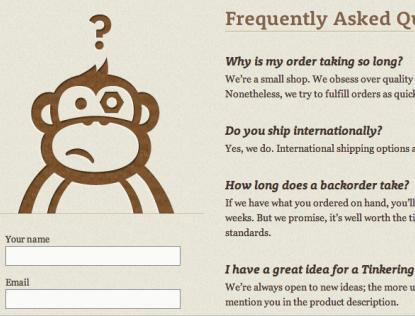field: (4, 288, 181, 310), (5, 245, 181, 267)
field_with_label: (4, 235, 184, 269), (2, 277, 182, 311)
